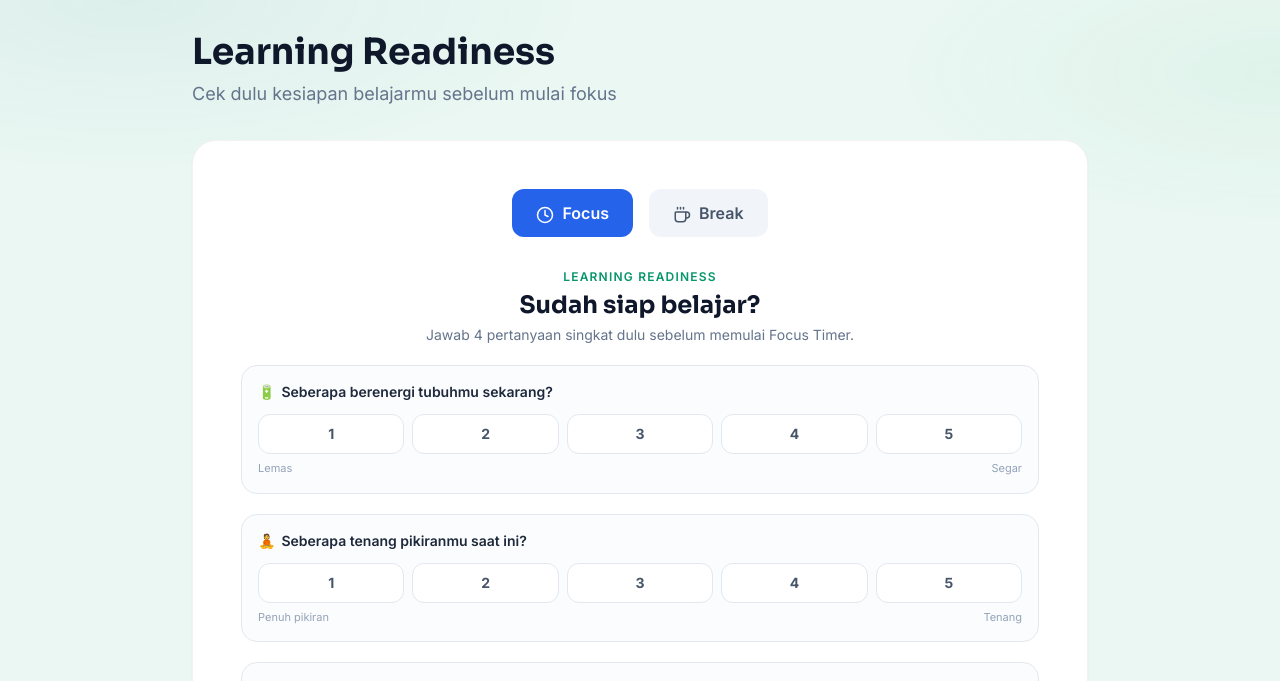
Test case: FocusTimerDesktop — gerbang Learning Readiness › skor terkunci -> timer tetap tertutup
The width and height of the screenshot is (1280, 681).
Step 1. Click the button "2" below "Seberapa berenergi tubuhmu sekarang?" → (486, 434), box x1=412 y1=414 x2=559 y2=454
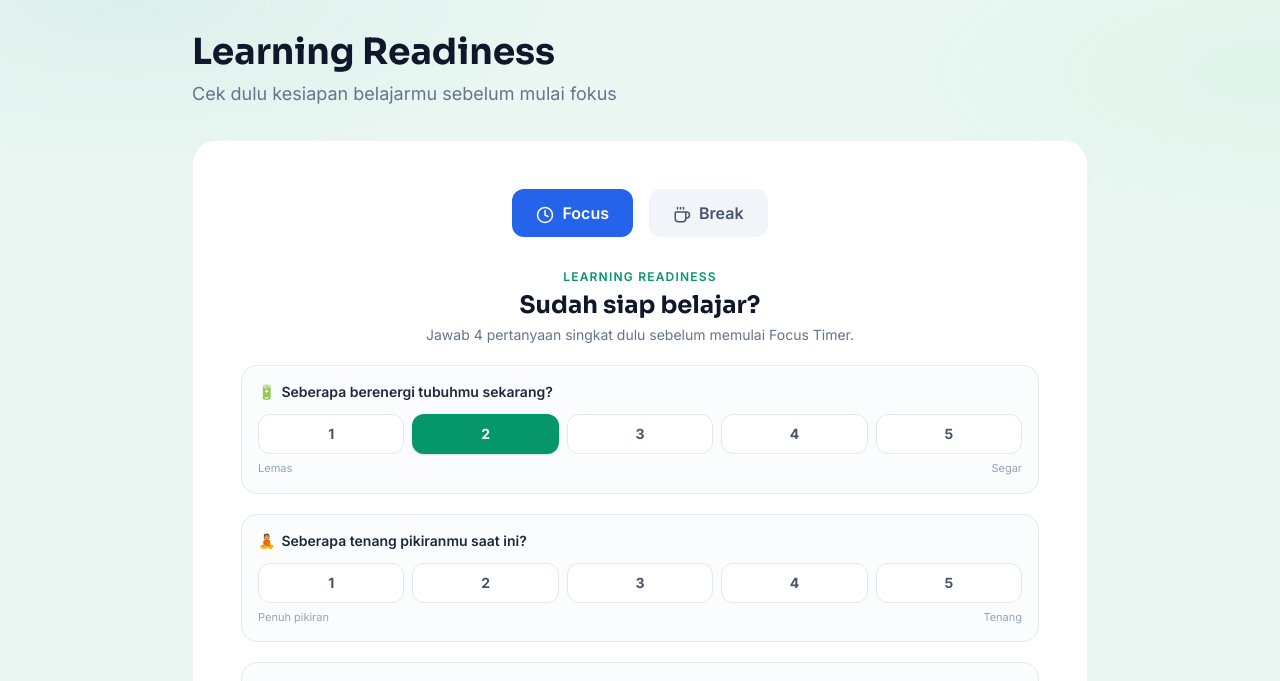
Step 2. Click the button "2" below "Seberapa tenang pikiranmu saat ini?" → (486, 582), box x1=412 y1=562 x2=559 y2=602
(page scrolled)
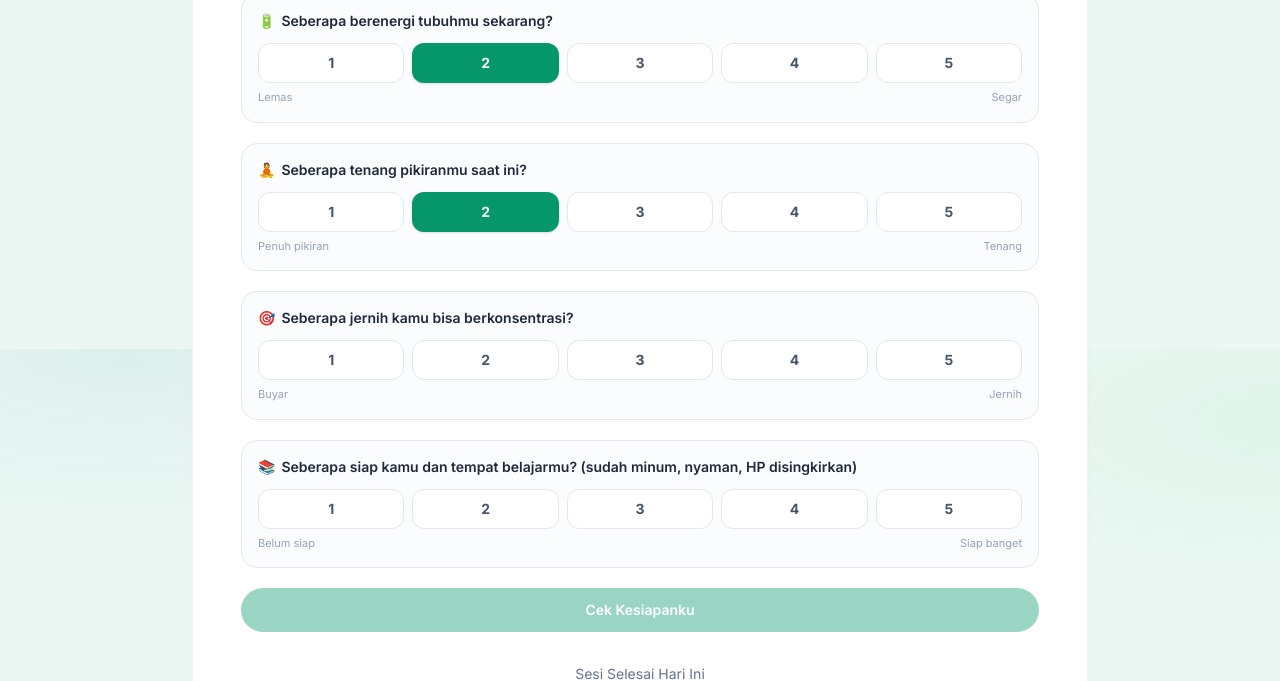
Step 3. Click the 3rd button "2" → (486, 360), box x1=412 y1=340 x2=559 y2=380
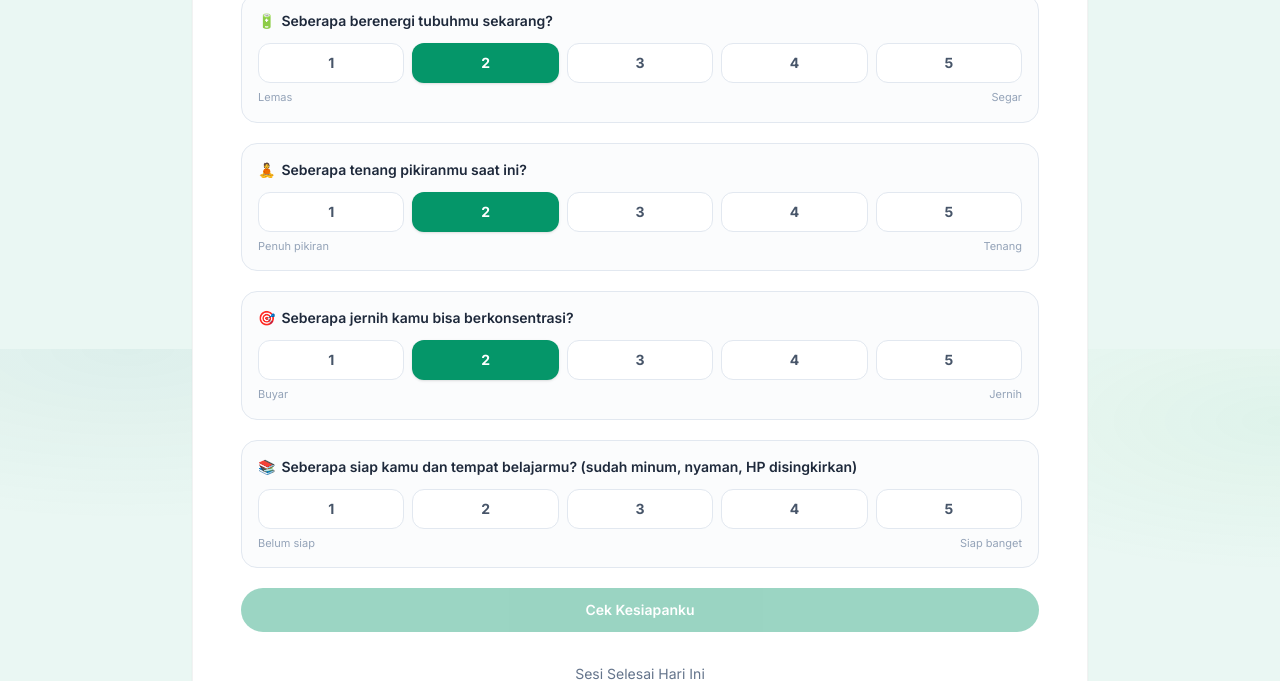
Step 4. Click the 4th button "2" → (486, 508), box x1=412 y1=488 x2=559 y2=528
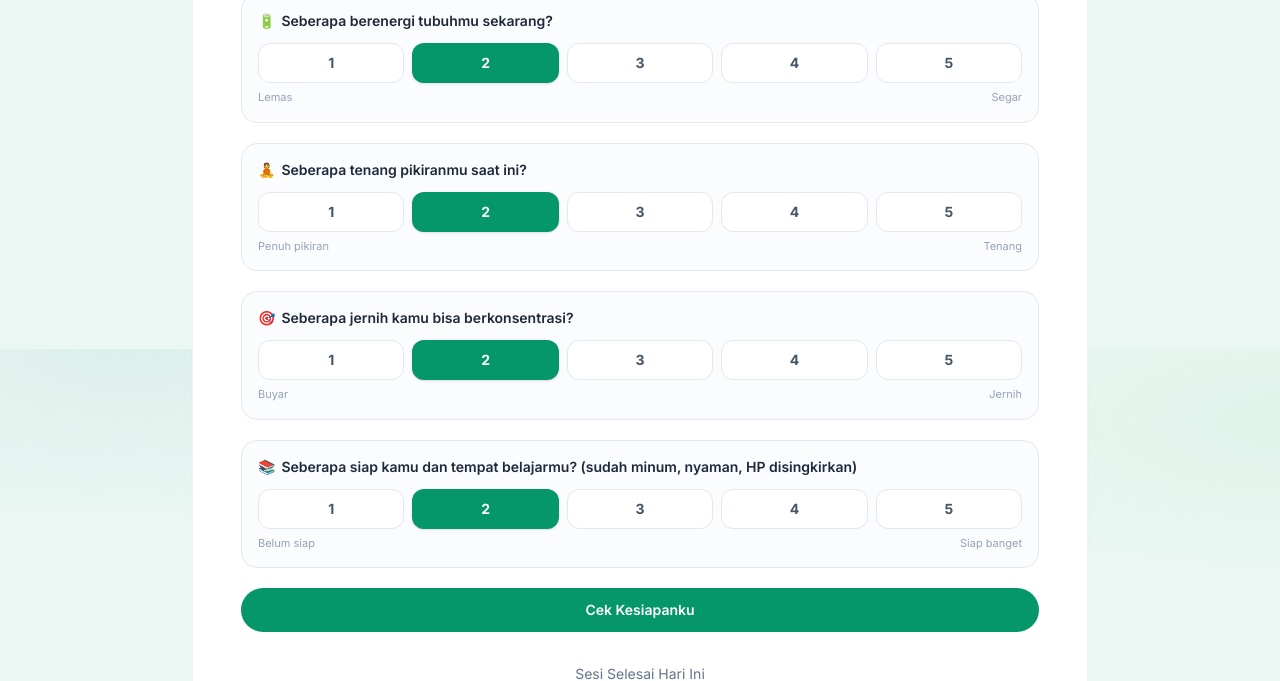
Step 5. Click the button "Cek Kesiapanku" → (640, 610), box x1=241 y1=588 x2=1039 y2=632
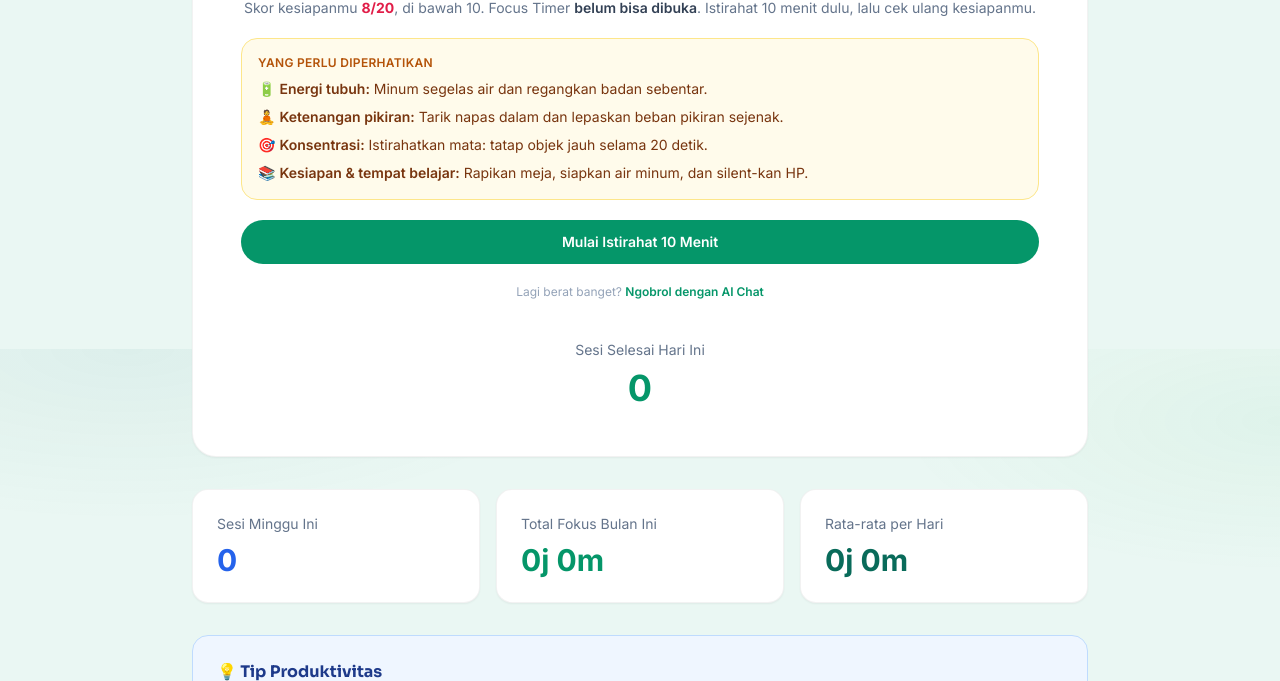
Check: the text "belum bisa dibuka" is shown, box x1=574 y1=0 x2=697 y2=16
